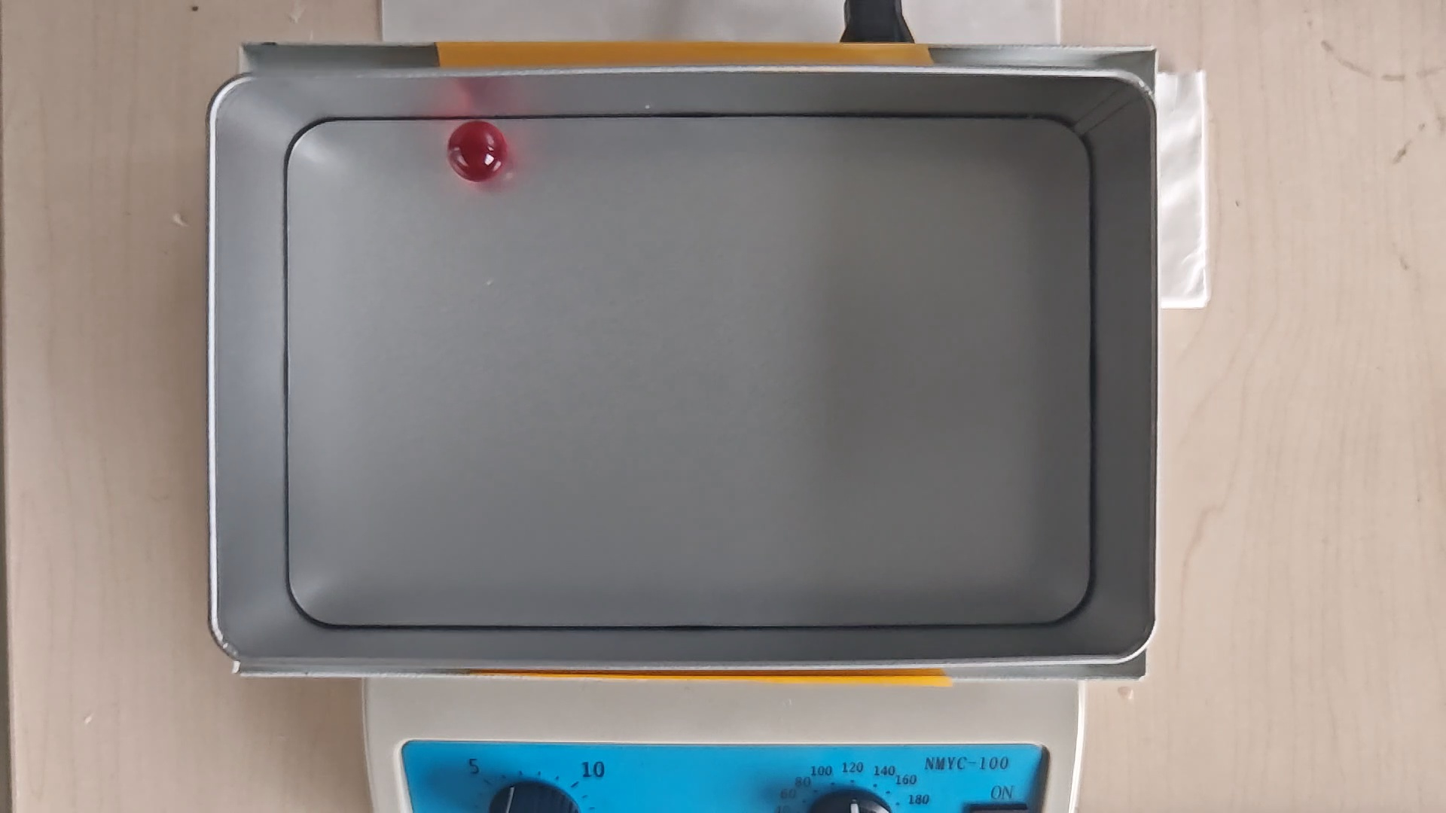ball: (445, 120, 510, 181)
container: (284, 117, 1092, 626)
